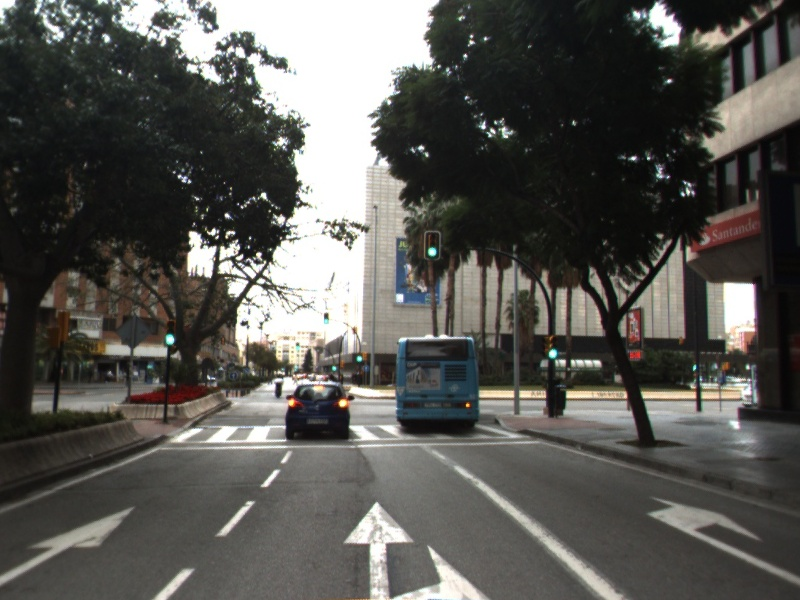RIGHT: (641, 491, 800, 589)
STRAIGHT: (1, 500, 142, 589)
STRAIGHT_RIGHT: (340, 498, 495, 600)
